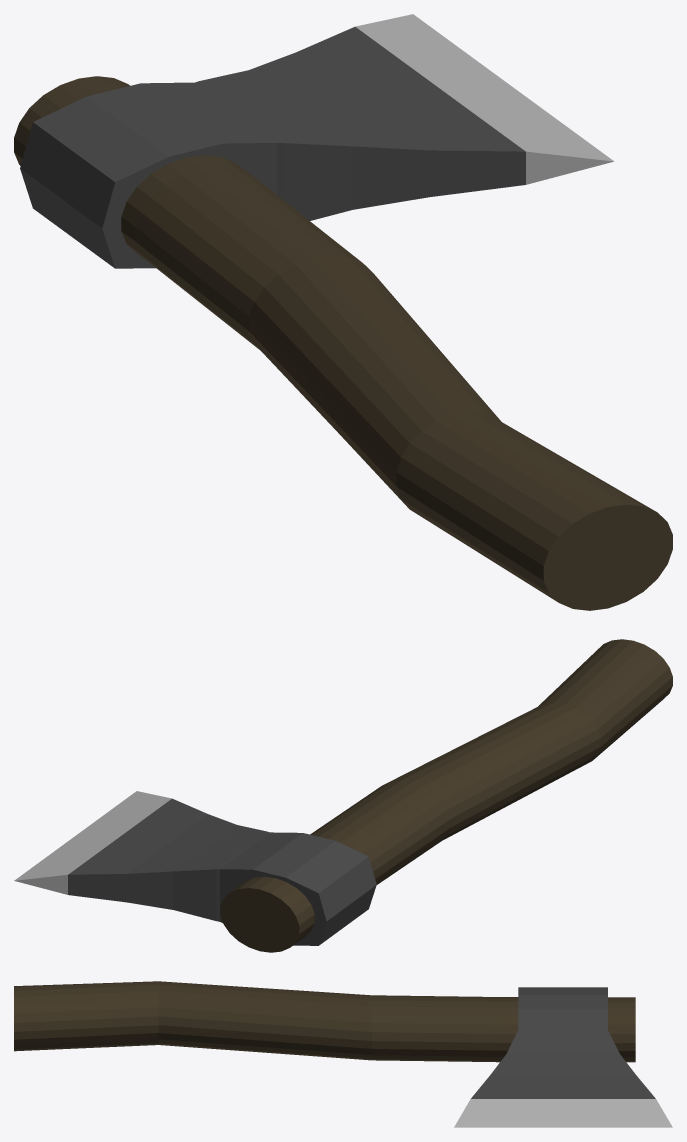
Rendered from axe.glb.
3 renders of one model, top to bottom at view 1: azimuth 30°, elevation 25°; view 2: azimuth 150°, elevation 25°; view 3: azimuth 270°, elevation 25°, orthographic. The views are drawn at different scales.
Visible parts, largest first — view 1: Axe; view 2: Axe; view 3: Axe.
Boxes of the visible parts, x1,y1,x2,y2 form: Axe: (14, 14, 672, 610); Axe: (14, 639, 672, 952); Axe: (14, 981, 672, 1127).
Bounding box in the file's own units: 0.6428 × 0.1397 × 1.38.
1 material, 1 textured.
